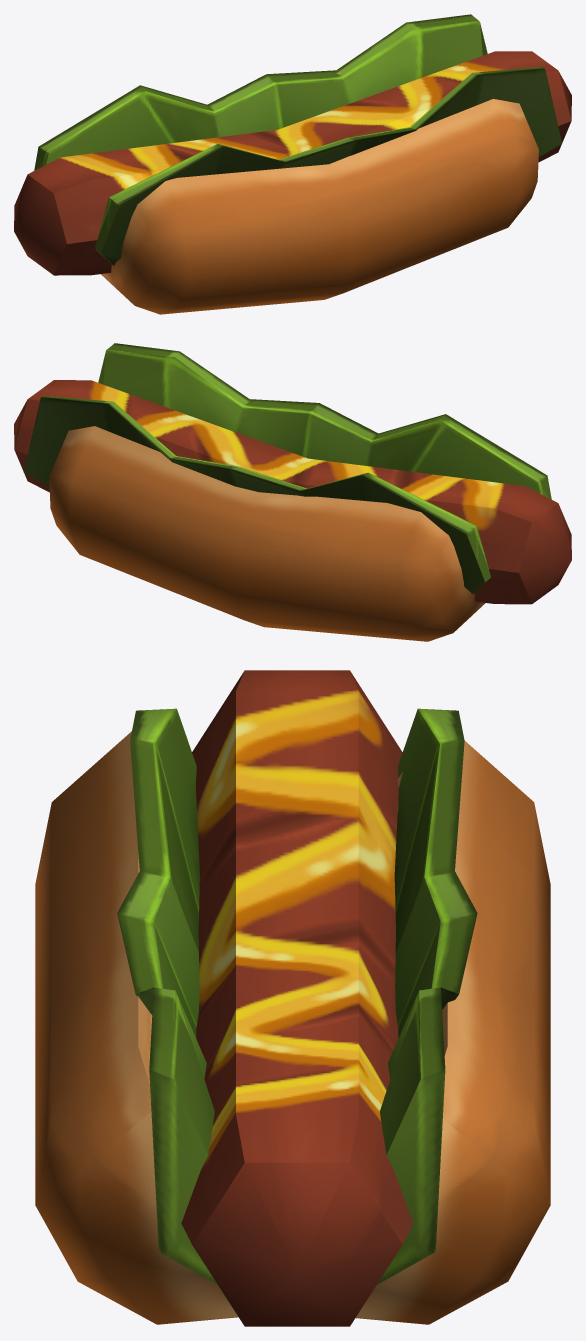
Rendered from hot dog.FBX.
The picture shows the model from 3 angles, top to bottom: view 1: azimuth 30°, elevation 25°; view 2: azimuth 150°, elevation 25°; view 3: azimuth 270°, elevation 25°; orthographic projection. The views are drawn at different scales.
Visible parts, largest first — view 1: hot dog; view 2: hot dog; view 3: hot dog.
Part boxes in pixels (bbox=[...]): hot dog: bbox=[14, 14, 571, 314]; hot dog: bbox=[14, 343, 571, 641]; hot dog: bbox=[35, 670, 550, 1326].
Size of the model in its own units: 8.17 by 2.63 by 3.27.
